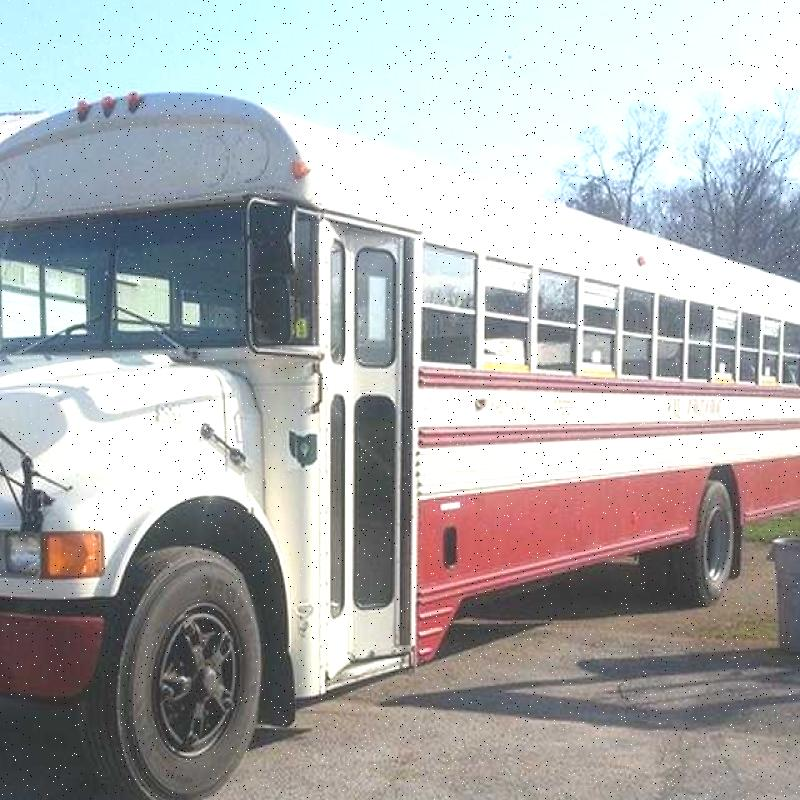bus: (0, 83, 773, 800)
